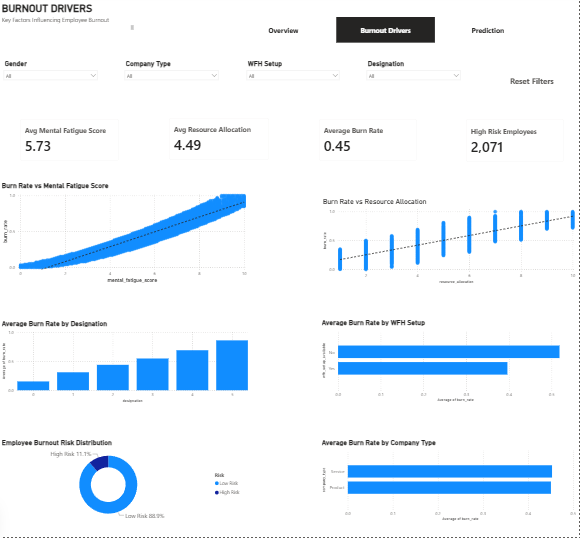

The dashboard page shown, as its layout file describes it:
{"tool":"powerbi","page":{"name":"Burnout Drivers","canvas":[1600,1500],"ordinal":1},"visuals":[{"type":"textbox","title":"BURNOUT DRIVERS","box":[0,18.3,375,82.3],"z":0},{"type":"scatterChart","title":"Burn Rate vs Mental Fatigue Score","fields":{"X":["employee_burnout_analysis_cleaned.mental_fatigue_score"],"Y":["employee_burnout_analysis_cleaned.burn_rate"]},"box":[0,515.2,692.1,286.6],"z":1000},{"type":"scatterChart","title":"Burn Rate vs Resource Allocation","fields":{"X":["employee_burnout_analysis_cleaned.resource_allocation"],"Y":["employee_burnout_analysis_cleaned.burn_rate"]},"box":[887.2,557.9,713.4,243.9],"z":2000},{"type":"clusteredColumnChart","title":"Average Burn Rate by Designation","fields":{"Category":["employee_burnout_analysis_cleaned.designation"],"Y":["Avg(employee_burnout_analysis_cleaned.burn_rate)"]},"box":[0,896,691.5,236.2],"z":3000},{"type":"clusteredBarChart","title":"Average Burn Rate by WFH Setup","fields":{"Category":["employee_burnout_analysis_cleaned.wfh_setup_available"],"Y":["Avg(employee_burnout_analysis_cleaned.burn_rate)"]},"box":[886.6,894.8,713.4,237.8],"z":4000},{"type":"clusteredBarChart","title":"Average Burn Rate by Company Type","fields":{"Category":["employee_burnout_analysis_cleaned.company_type"],"Y":["Avg(employee_burnout_analysis_cleaned.burn_rate)"]},"box":[886.6,1225.6,713.4,234.8],"z":5000},{"type":"donutChart","title":"Employee Burnout Risk Distribution","fields":{"Category":["employee_burnout_analysis_cleaned.Risk"],"Y":["CountNonNull(employee_burnout_analysis_cleaned.employee_id)"]},"box":[0,1225.6,677.2,236.2],"z":6000},{"type":"slicer","fields":{"Values":["employee_burnout_analysis_cleaned.gender"]},"box":[0,173.8,280.5,125],"z":7000},{"type":"slicer","fields":{"Values":["employee_burnout_analysis_cleaned.company_type"]},"box":[336.1,173.8,280.5,125],"z":8000},{"type":"slicer","fields":{"Values":["employee_burnout_analysis_cleaned.wfh_setup_available"]},"box":[672.3,173.8,277.4,125],"z":9000},{"type":"slicer","fields":{"Values":["employee_burnout_analysis_cleaned.designation"]},"box":[1005.3,173.8,280.5,125],"z":10000},{"type":"pageNavigator","box":[648.8,59.8,839.4,71.1],"z":11000},{"type":"cardVisual","fields":{"Data":["employee_burnout_analysis_cleaned.High Risk Employees"]},"box":[1274.4,326.2,304.9,152.4],"z":12000},{"type":"cardVisual","fields":{"Data":["employee_burnout_analysis_cleaned.Average Burn Rate"]},"box":[865.9,326.2,304.9,149.4],"z":13000},{"type":"cardVisual","fields":{"Data":["employee_burnout_analysis_cleaned.Avg Resource Allocation"]},"box":[451.2,323.2,311,149.4],"z":14000},{"type":"cardVisual","fields":{"Data":["employee_burnout_analysis_cleaned.Avg Mental Fatigue Score"]},"box":[39.6,326.2,307.9,149.4],"z":15000},{"type":"actionButton","box":[1341.5,173.8,259.1,125],"z":16000}]}

Visuals, with their boxes in screenshot pixels (x1, y1, x2, y2), scaled from the page's 1600x1500 canvas onto the 580x538 screenshot:
"BURNOUT DRIVERS" textbox: bbox(0, 7, 136, 36)
"Burn Rate vs Mental Fatigue Score" scatterChart: bbox(0, 185, 251, 288)
"Burn Rate vs Resource Allocation" scatterChart: bbox(322, 200, 579, 288)
"Average Burn Rate by Designation" clusteredColumnChart: bbox(0, 321, 251, 406)
"Average Burn Rate by WFH Setup" clusteredBarChart: bbox(321, 321, 579, 406)
"Average Burn Rate by Company Type" clusteredBarChart: bbox(321, 440, 579, 524)
"Employee Burnout Risk Distribution" donutChart: bbox(0, 440, 245, 524)
slicer - employee_burnout_analysis_cleaned.gender: bbox(0, 62, 102, 107)
slicer - employee_burnout_analysis_cleaned.company_type: bbox(122, 62, 224, 107)
slicer - employee_burnout_analysis_cleaned.wfh_setup_available: bbox(244, 62, 344, 107)
slicer - employee_burnout_analysis_cleaned.designation: bbox(364, 62, 466, 107)
pageNavigator: bbox(235, 21, 539, 47)
cardVisual - employee_burnout_analysis_cleaned.High Risk Employees: bbox(462, 117, 572, 172)
cardVisual - employee_burnout_analysis_cleaned.Average Burn Rate: bbox(314, 117, 424, 171)
cardVisual - employee_burnout_analysis_cleaned.Avg Resource Allocation: bbox(164, 116, 276, 170)
cardVisual - employee_burnout_analysis_cleaned.Avg Mental Fatigue Score: bbox(14, 117, 126, 171)
actionButton: bbox(486, 62, 579, 107)
